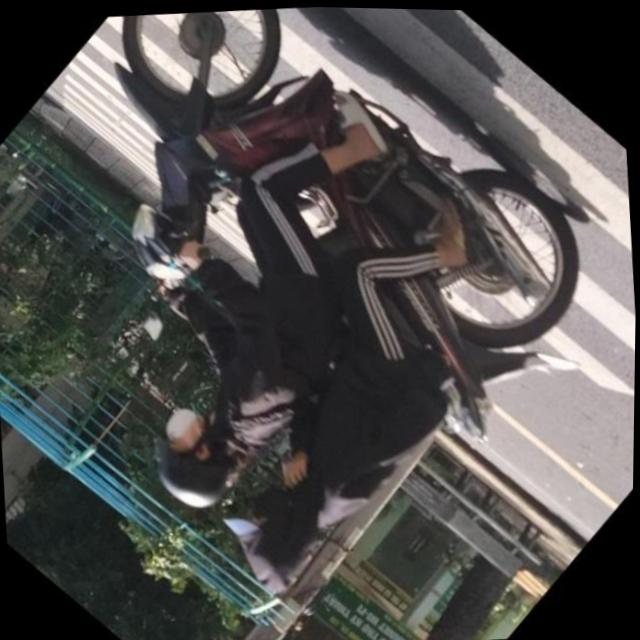WITH_HELMET: (129, 413, 246, 528)
